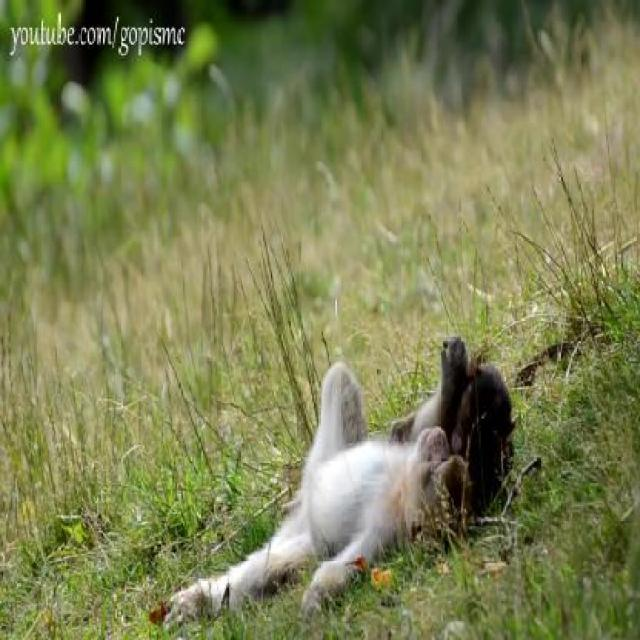Monkey: (183, 363, 469, 634)
